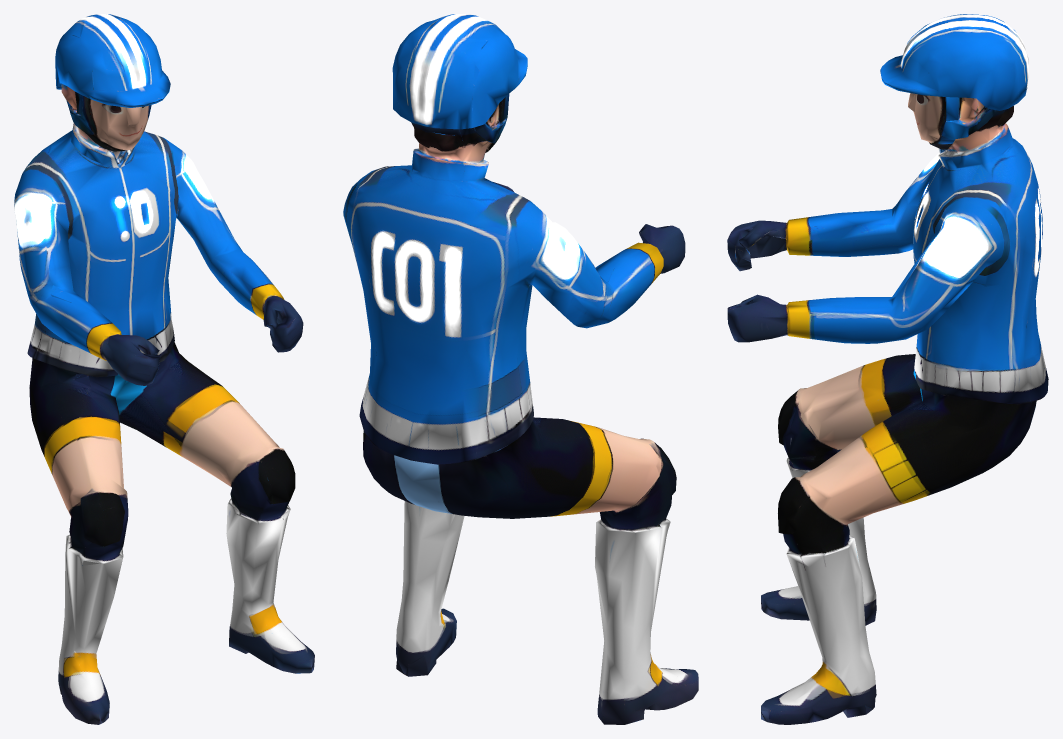
Rendered from blue1.glb.
3 views of the same model, side by side, from view 1: azimuth 30°, elevation 25°; view 2: azimuth 150°, elevation 25°; view 3: azimuth 270°, elevation 25° (orthographic). The views are drawn at different scales.
Size of the model in its own units: 0.8095 by 2 by 0.9023.
1 material, 1 textured.
